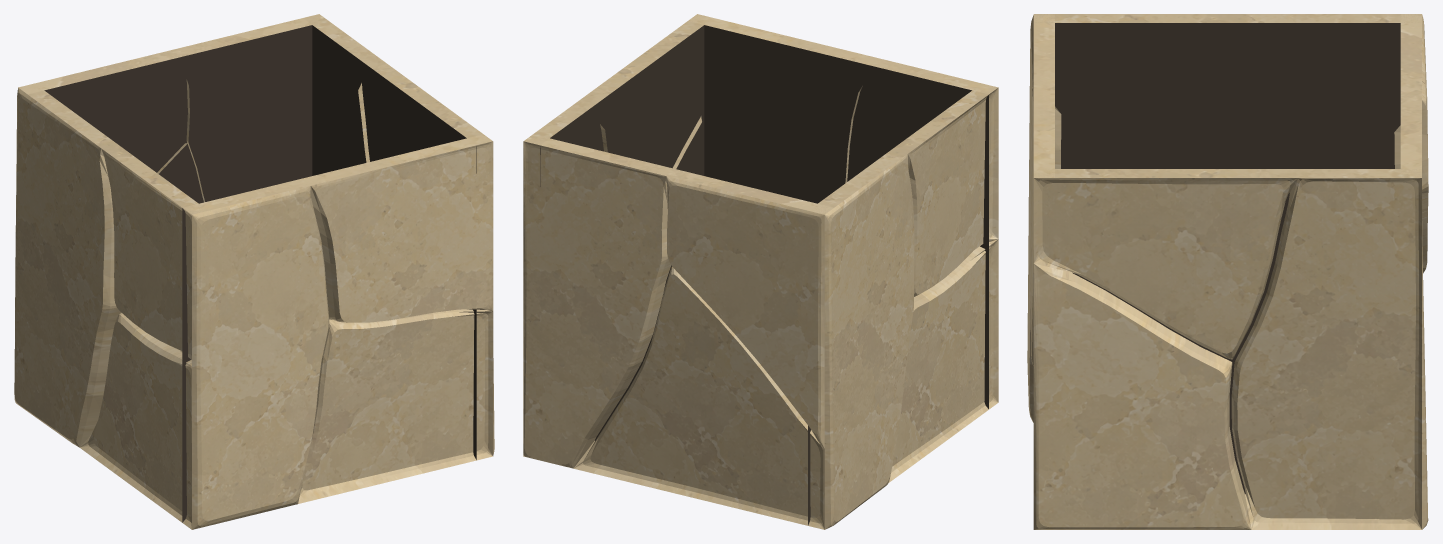
File: ground_square_island_03.glb
3 views of the same model, side by side, from view 1: azimuth 30°, elevation 25°; view 2: azimuth 150°, elevation 25°; view 3: azimuth 270°, elevation 25° (orthographic). The views are drawn at different scales.
Parts seen in each view (by area): view 1: GroundSquareIsland03_Body; view 2: GroundSquareIsland03_Body; view 3: GroundSquareIsland03_Body.
Boxes of the visible parts, bbox=[...] form: GroundSquareIsland03_Body: bbox=[14, 14, 494, 529]; GroundSquareIsland03_Body: bbox=[523, 14, 998, 529]; GroundSquareIsland03_Body: bbox=[1027, 14, 1428, 529].
Bounding box in the file's own units: 1.03 × 1 × 1.03.
Materials: 14 (13 with a texture image).
